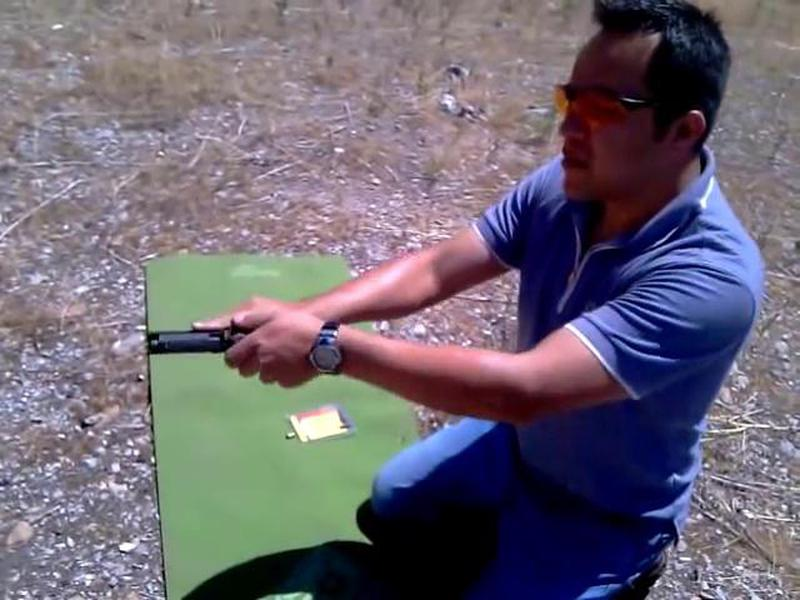Pistola: (119, 291, 273, 394)
